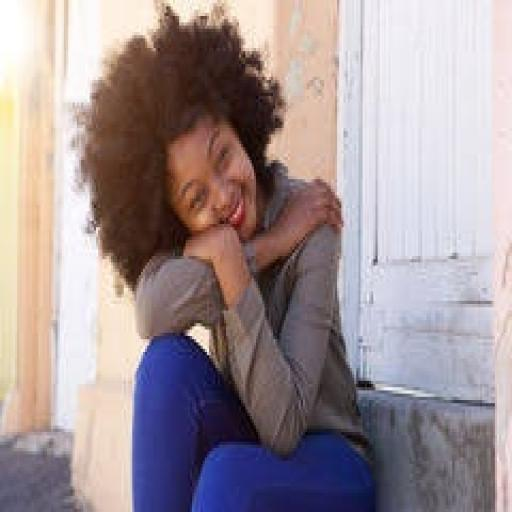sitting: (72, 3, 378, 509)
